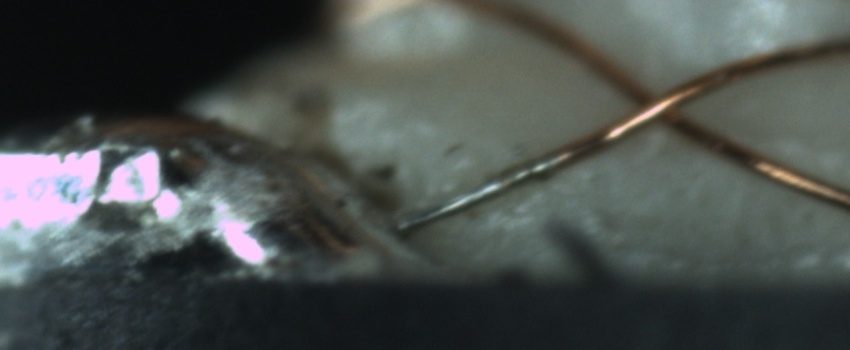CL: (609, 64, 708, 140)
TS: (393, 151, 564, 236)
